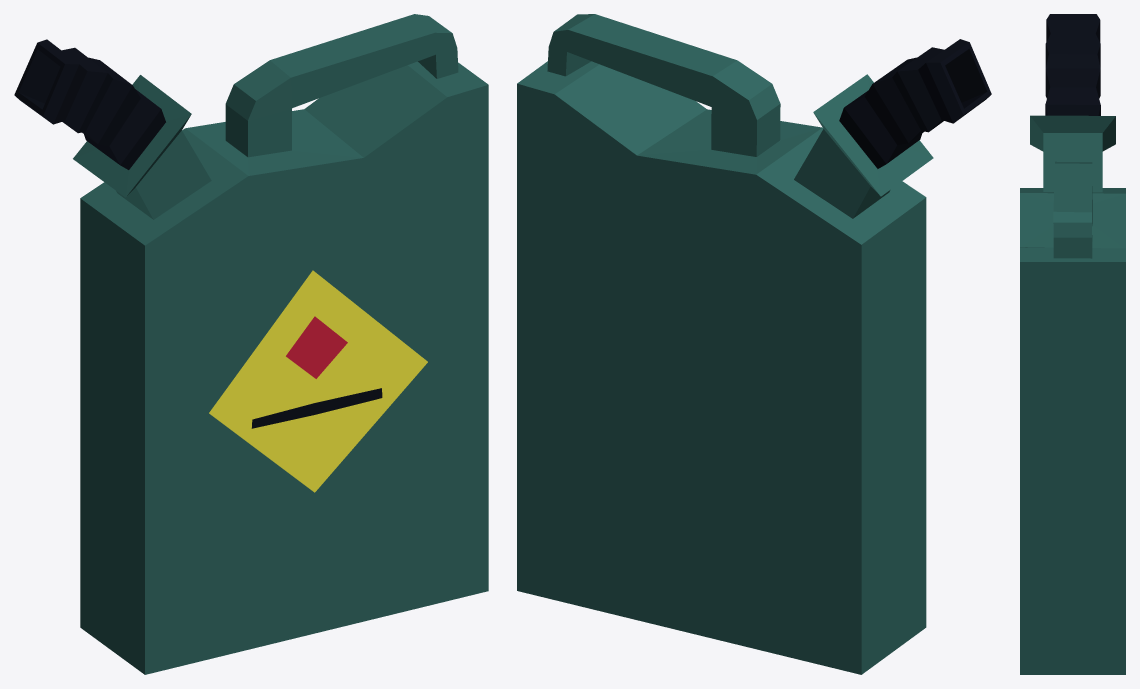
The model's file is Galão.fbx.
3 renders of one model, left to right at view 1: azimuth 30°, elevation 25°; view 2: azimuth 150°, elevation 25°; view 3: azimuth 270°, elevation 25°, orthographic. The views are drawn at different scales.
Parts seen in each view (by area): view 1: Galão; view 2: Galão; view 3: Galão.
Part boxes in pixels (x1=…): Galão: x1=14, y1=14, x2=488, y2=674; Galão: x1=517, y1=14, x2=991, y2=674; Galão: x1=1020, y1=14, x2=1125, y2=674.
Size of the model in its own units: 1.41 by 1.93 by 0.3691.
